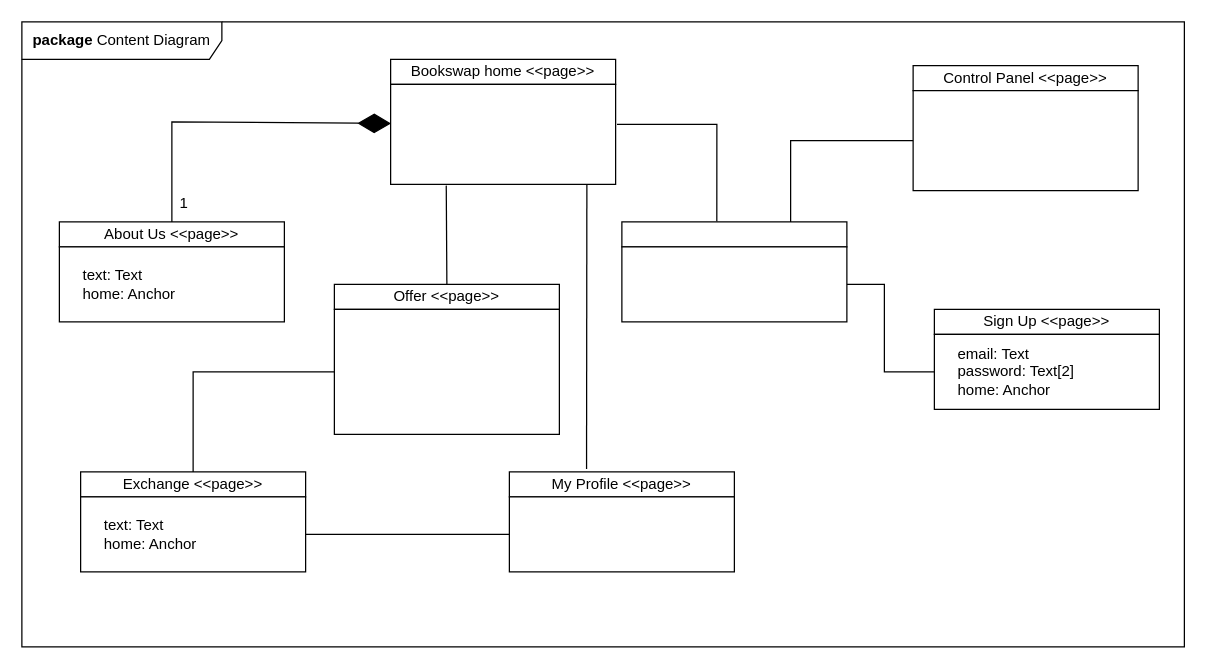
This 1206x669 diagram has some shape labels left out. Each missing label, with the centre of its shape:
"about us: Anchor sign ip: Anchor offer: Anchor my profile: Anchor" goes at point (502, 133).
"books: List image: Image home: Anchor" goes at point (621, 534).
"problems: Text status: Selection activities_description: Text home: Anchor" goes at point (1025, 140).
"Sign In <<page>>" goes at point (734, 234).
"title: Text authon: Text Description: Text home: Anchor exchange: Anchor" goes at point (446, 371).
"user: Text password: Text[2] home: Anchor" goes at point (734, 284).
